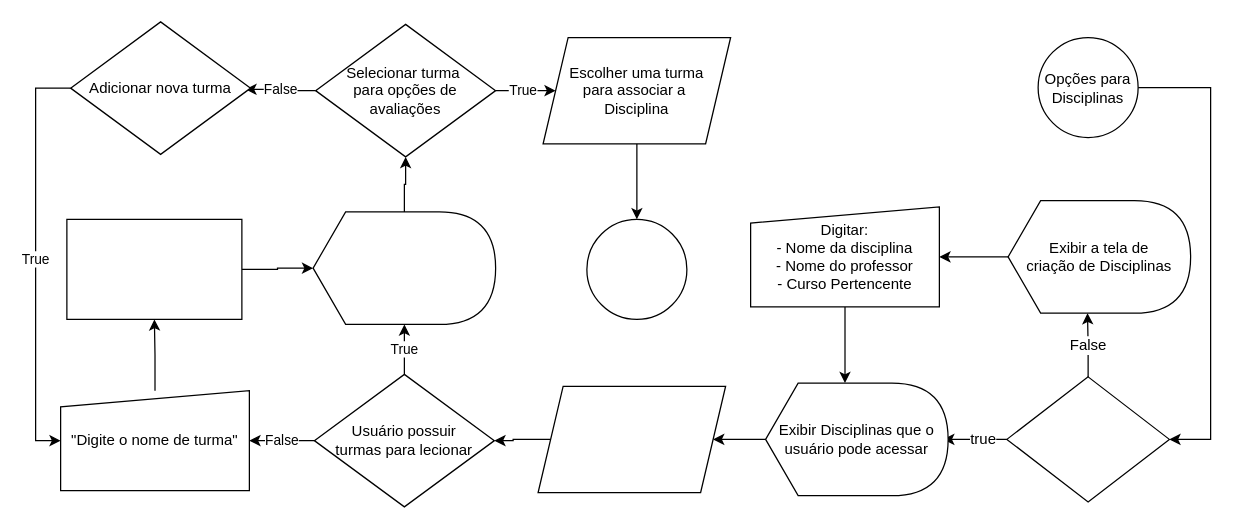
Image size: 1243x529. Some labels were removed from this diagram. The centre of each missing label's shape, as x and y in pixels:
"Crie uma nova turma" goes at pixel 154 268.
"Escolha entre as Disciplinas disponíveis" goes at pixel 631 438.
"Exibir Turmas que Usuário Leciona" goes at pixel 404 267.
"Opções para Avaliação" goes at pixel 636 268.
"Usuário possui Disciplinas" goes at pixel 1087 439.
